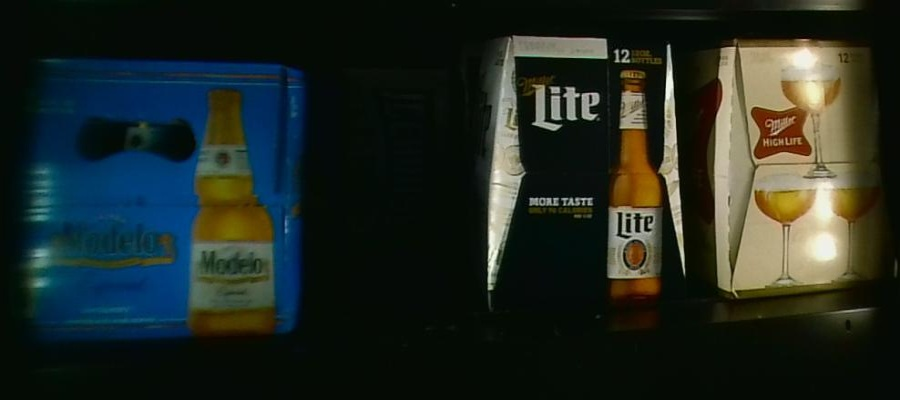bottle: (3, 64, 302, 340), (479, 38, 691, 301), (697, 38, 891, 295), (320, 61, 457, 235)
